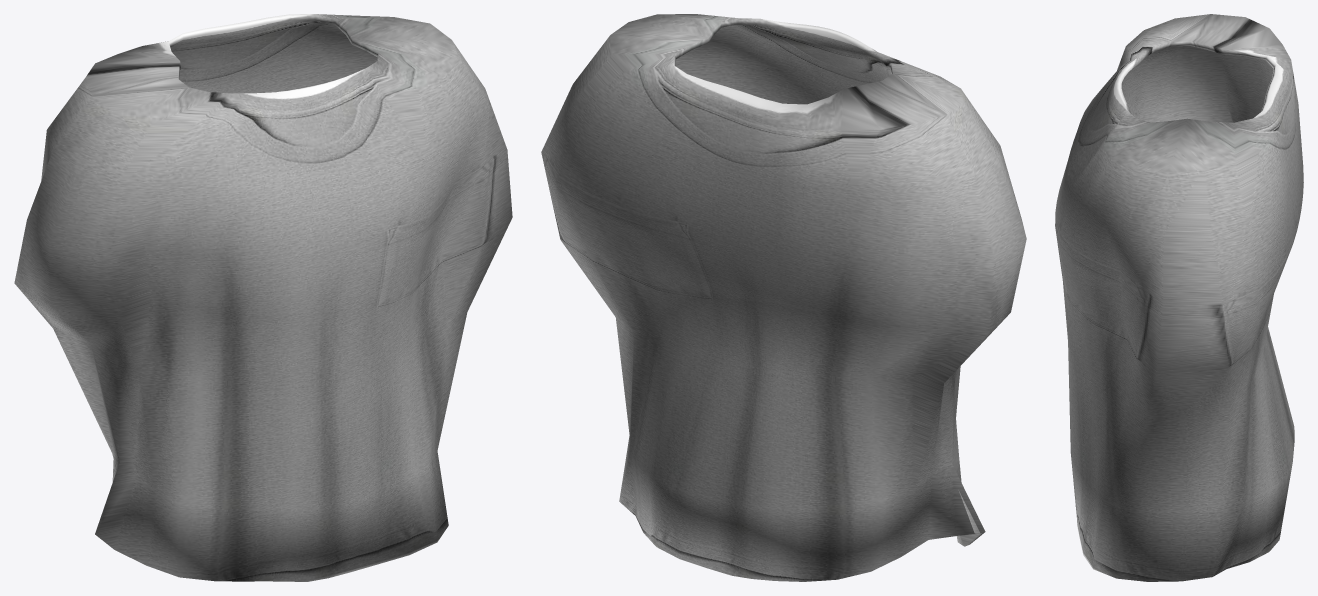
File: item_shirt.glb
3 renders of one model, left to right at view 1: azimuth 30°, elevation 25°; view 2: azimuth 150°, elevation 25°; view 3: azimuth 270°, elevation 25°, orthographic. The views are drawn at different scales.
Parts seen in each view (by area): view 1: garment; view 2: garment; view 3: garment.
Boxes of the visible parts, box(x1,y1,x2,y2) form: garment: box(14, 14, 512, 581); garment: box(541, 14, 1026, 581); garment: box(1055, 14, 1303, 581).
Size of the model in its own units: 0.5983 by 0.6022 by 0.3101.
Materials: 1 (1 with a texture image).
